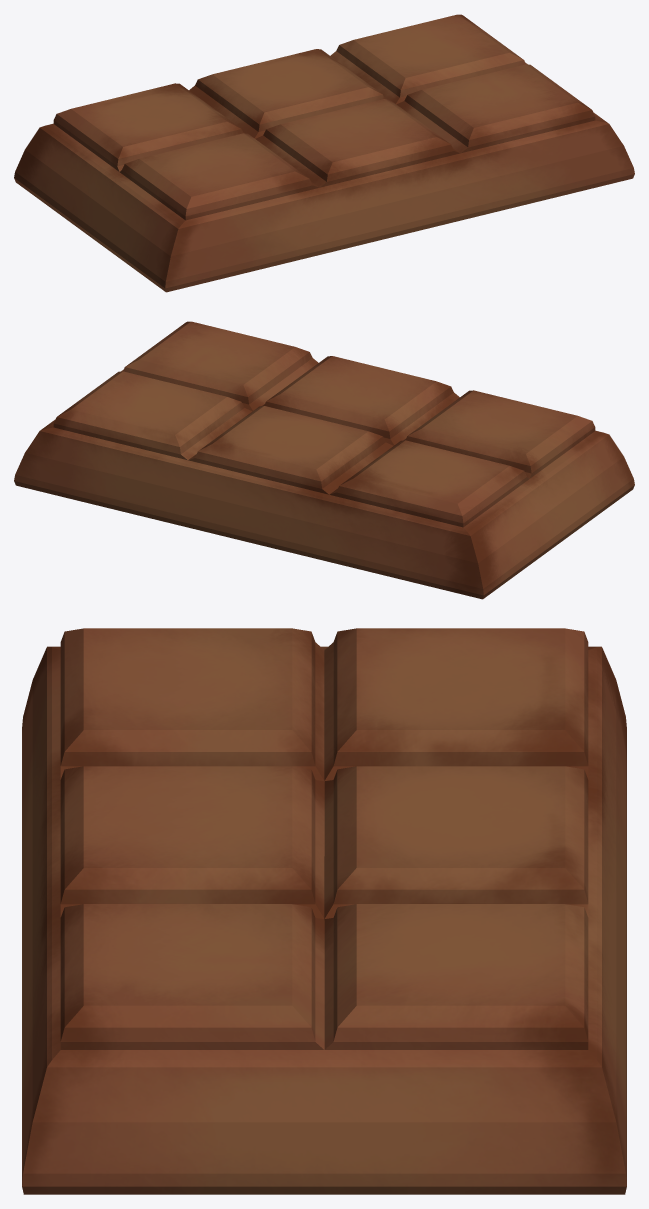
File: Ingrediente_Chocolate.fbx
3 renders of one model, top to bottom at view 1: azimuth 30°, elevation 25°; view 2: azimuth 150°, elevation 25°; view 3: azimuth 270°, elevation 25°, orthographic. The views are drawn at different scales.
Parts seen in each view (by area): view 1: m_Chocolate; view 2: m_Chocolate; view 3: m_Chocolate.
Part boxes in pixels (left/top/right/bottom): m_Chocolate: left=14, top=14, right=634, bottom=292; m_Chocolate: left=14, top=321, right=634, bottom=599; m_Chocolate: left=22, top=628, right=626, bottom=1194.
Bounding box in the file's own units: 48.37 × 7.36 × 26.97.
